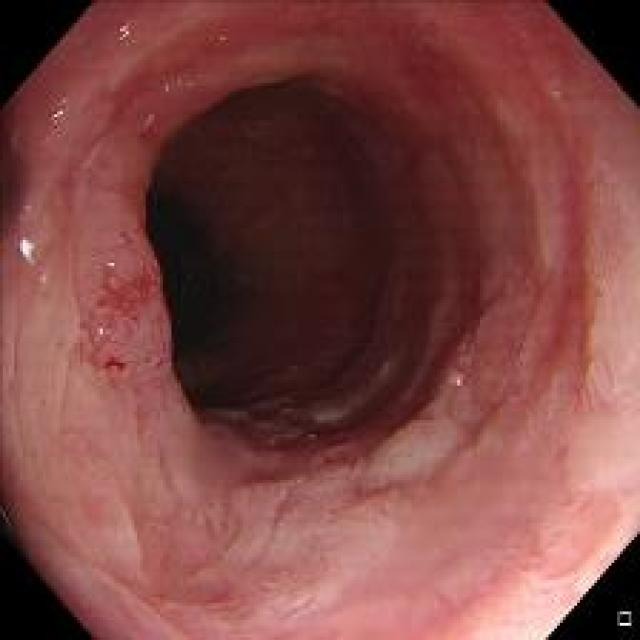blood: (79, 241, 158, 356)
color misalignment: (48, 90, 75, 132), (108, 24, 140, 42), (18, 231, 34, 264)
contrast: (140, 71, 498, 459)
specularity: (18, 226, 34, 275)
